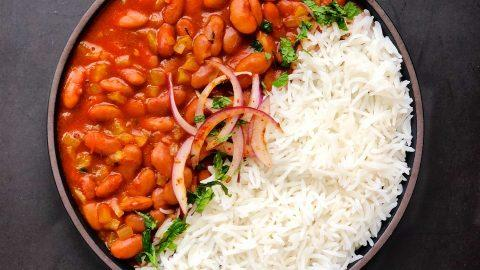rajma: (73, 0, 247, 169)
rice: (254, 106, 416, 270)
